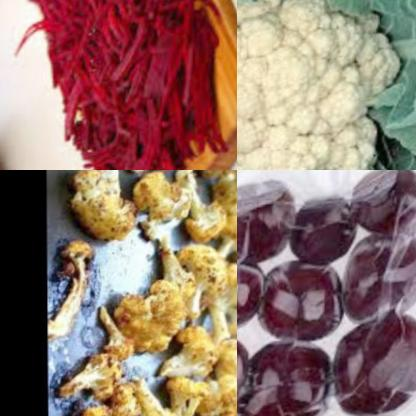beet: (4, 0, 228, 170), (238, 324, 340, 416), (255, 254, 353, 347), (329, 229, 416, 332), (336, 310, 416, 416), (237, 170, 301, 273), (290, 192, 355, 273), (353, 170, 416, 245), (237, 231, 271, 345)
cayliflower: (46, 170, 237, 416), (237, 0, 408, 170)
